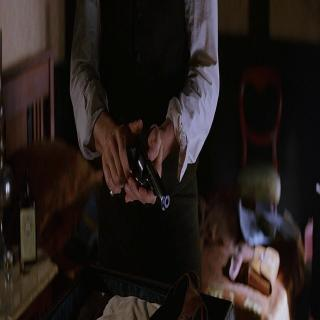gun: (93, 100, 175, 230)
